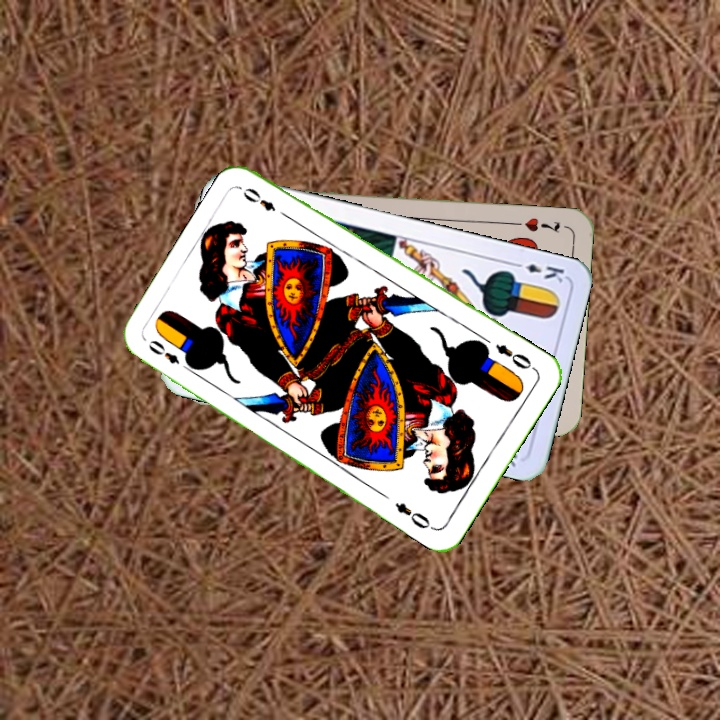EK: (508, 258, 567, 285)
EO: (144, 335, 195, 375), (491, 340, 538, 374)
H7: (509, 213, 563, 236)
